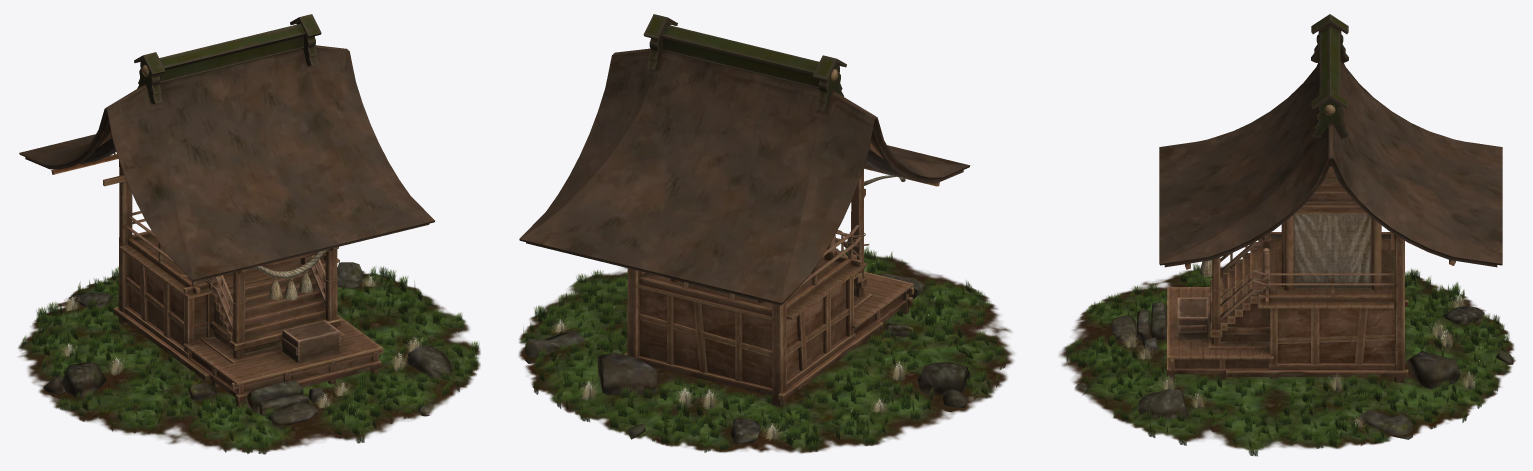
The model's file is temple-transformed.glb.
3 renders of one model, left to right at view 1: azimuth 30°, elevation 25°; view 2: azimuth 150°, elevation 25°; view 3: azimuth 270°, elevation 25°, orthographic. The views are drawn at different scales.
Parts seen in each view (by area): view 1: polySurface1168; view 2: polySurface1168; view 3: polySurface1168.
Boxes of the visible parts, box(x1,y1,x2,y2) form: polySurface1168: box(18, 14, 480, 454); polySurface1168: box(519, 14, 1013, 453); polySurface1168: box(1059, 14, 1515, 456).
Size of the model in its own units: 9.21 by 6.74 by 9.21.
1 material, 1 textured.
